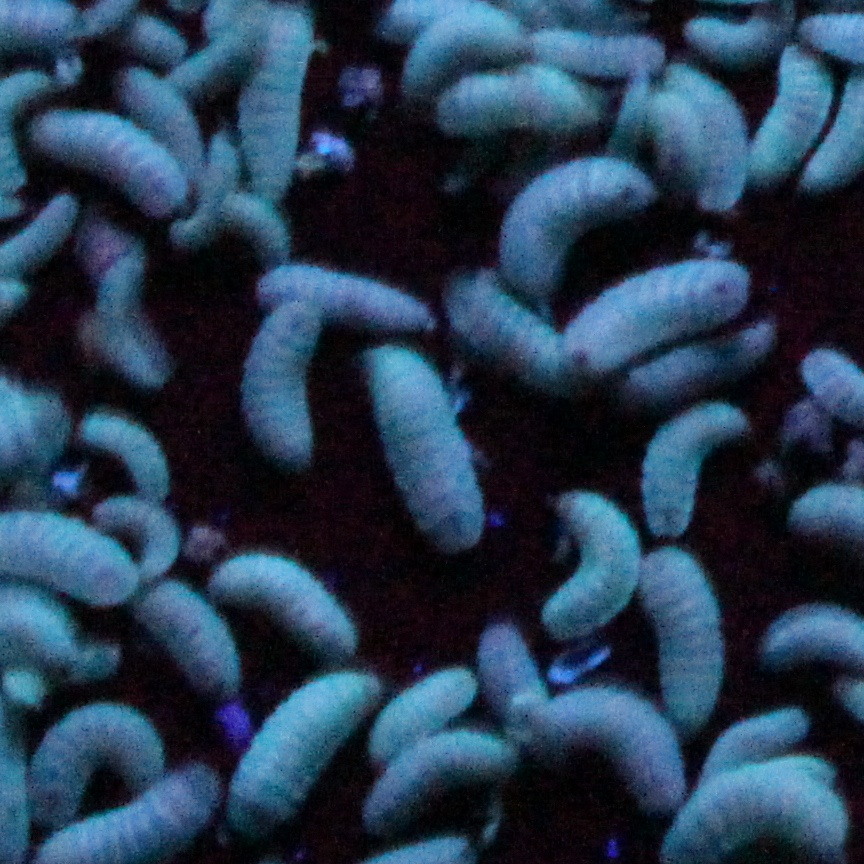larve: (229, 676, 368, 847), (362, 343, 477, 547), (501, 157, 656, 281), (29, 704, 172, 822), (531, 691, 678, 805), (573, 263, 745, 358), (38, 109, 183, 214), (242, 4, 317, 200), (642, 405, 745, 542), (240, 299, 322, 460), (216, 559, 352, 654), (645, 557, 721, 726), (553, 492, 638, 640), (367, 734, 502, 826), (665, 62, 746, 211), (433, 66, 600, 138), (260, 262, 439, 328), (458, 274, 567, 381), (754, 34, 827, 182), (402, 7, 526, 93), (98, 230, 161, 391), (131, 591, 234, 689), (117, 72, 203, 175), (377, 668, 470, 760), (626, 326, 770, 383), (173, 130, 240, 242), (75, 414, 169, 490), (95, 493, 176, 580), (686, 1, 806, 59), (472, 622, 545, 707), (703, 711, 808, 768), (525, 31, 663, 73), (171, 22, 249, 95), (647, 88, 695, 181), (221, 198, 291, 259), (623, 65, 648, 146)
